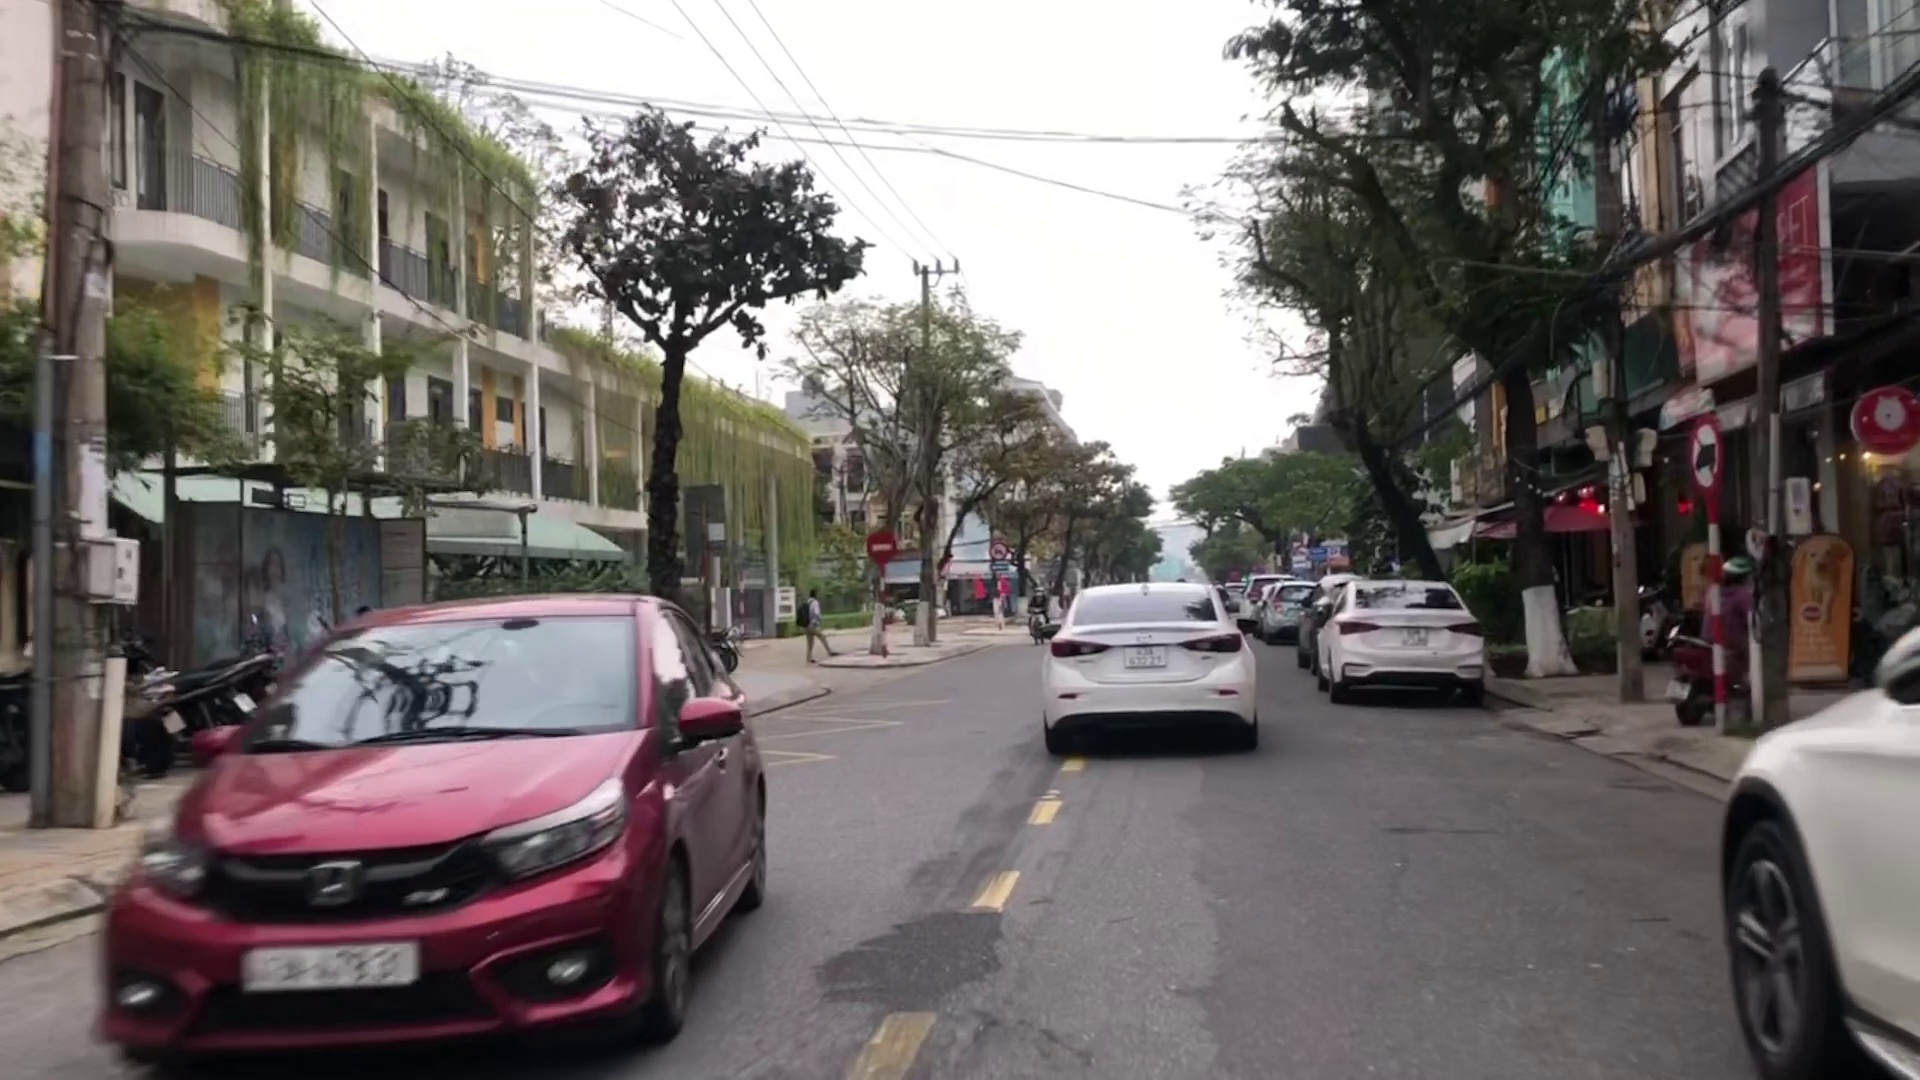Bien khac: (1681, 415, 1724, 491), (984, 541, 1007, 560)
Cam di nguoc chieu: (866, 524, 897, 562)
